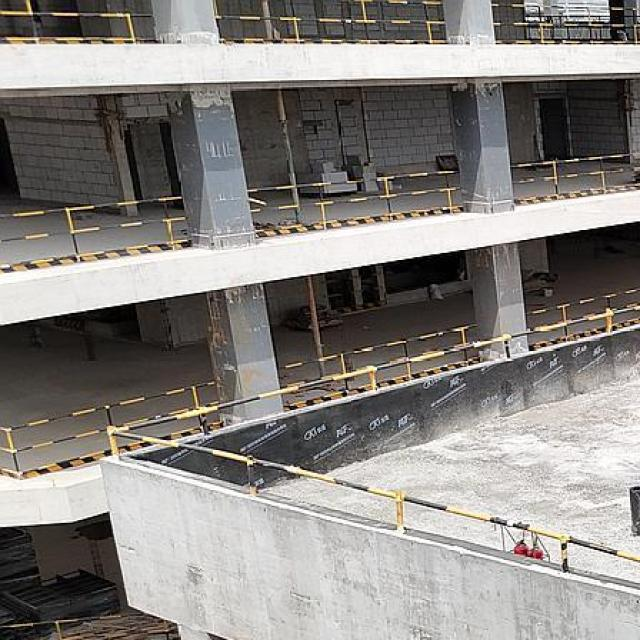edge_guardrail: (105, 299, 640, 631), (0, 379, 226, 476), (276, 323, 485, 411), (0, 195, 191, 272), (246, 169, 465, 235), (213, 0, 446, 44), (525, 286, 640, 349), (0, 0, 157, 46), (510, 153, 640, 203), (491, 3, 640, 44)
